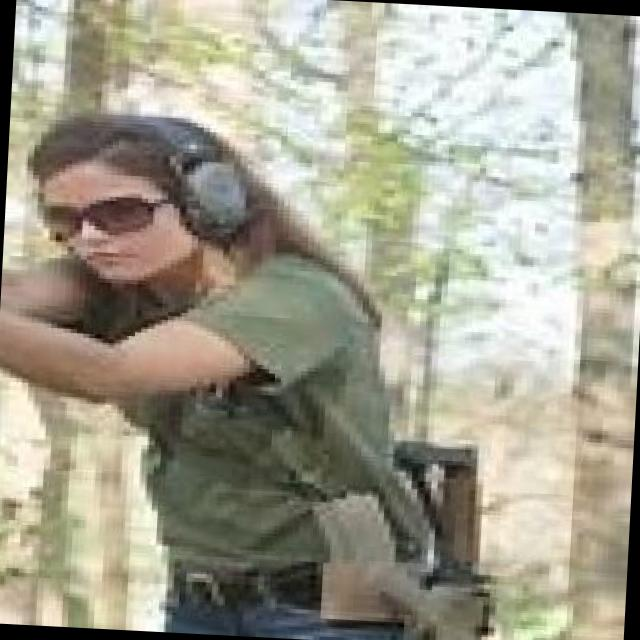Guns: (333, 419, 550, 640)
